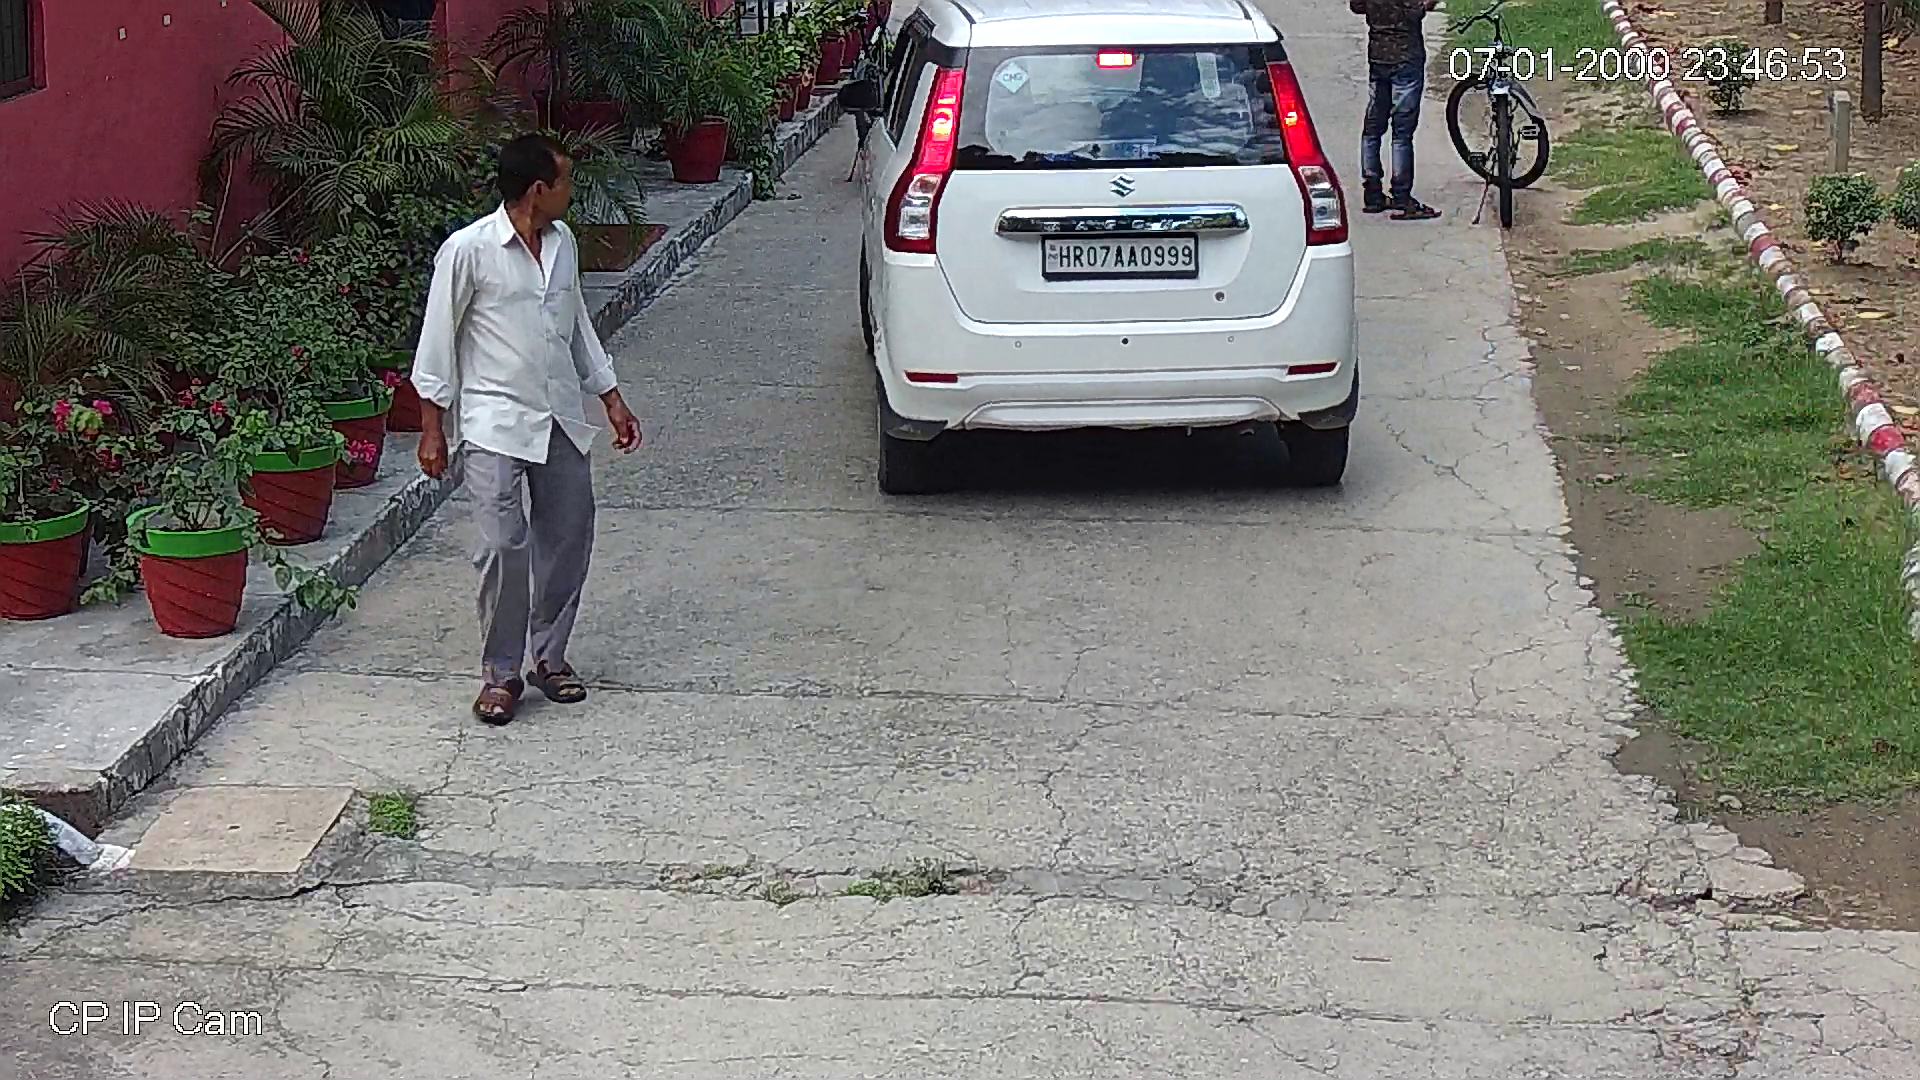plate: (1038, 235, 1197, 278)
